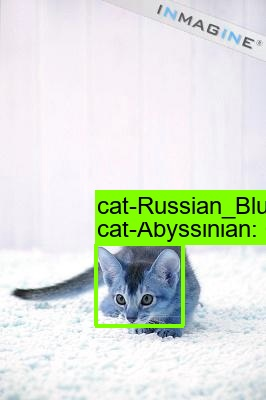cat-Abyssinian: (96, 246, 179, 328)
